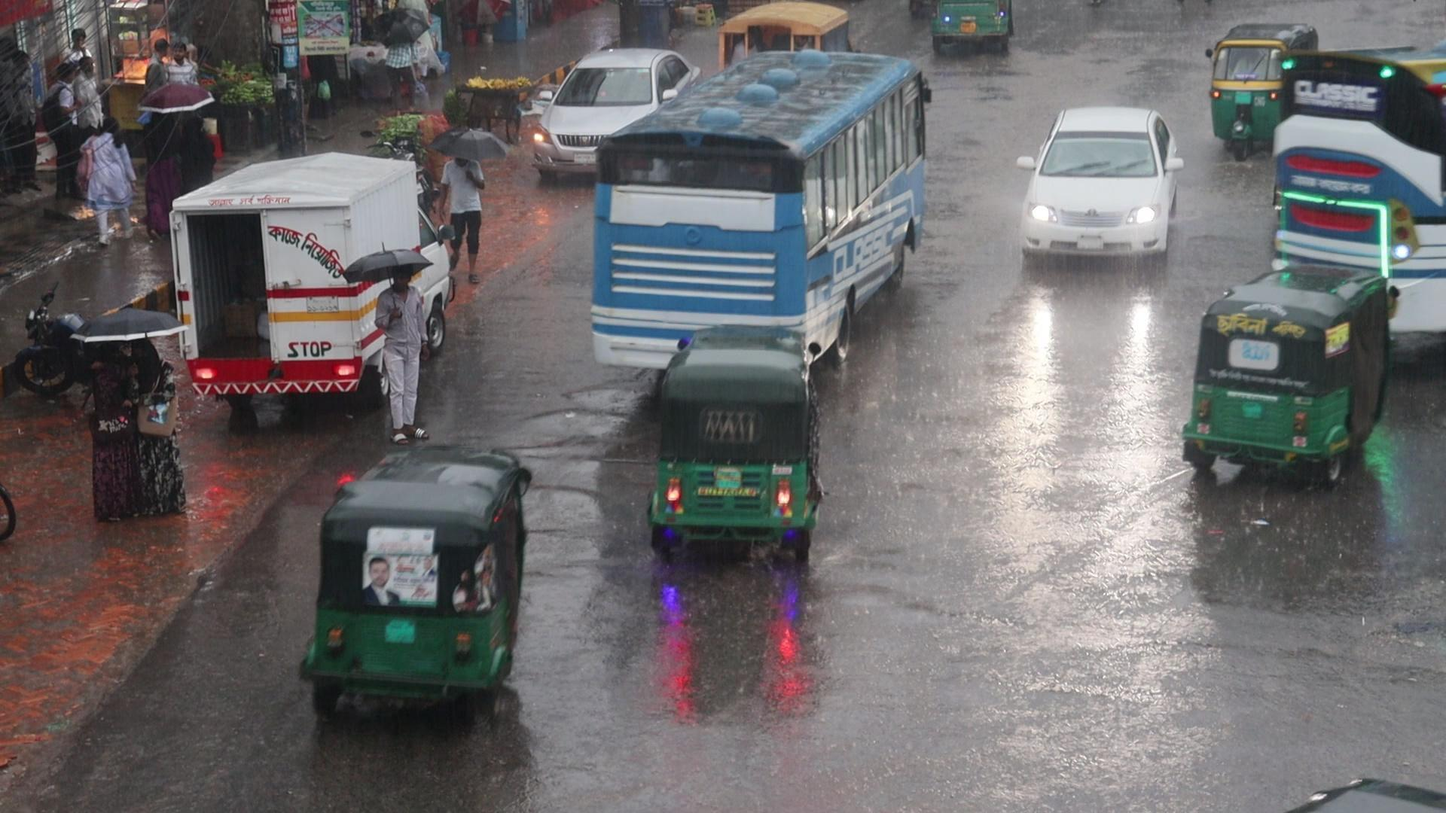Bus: (591, 48, 931, 354)
Car: (1015, 107, 1182, 267)
